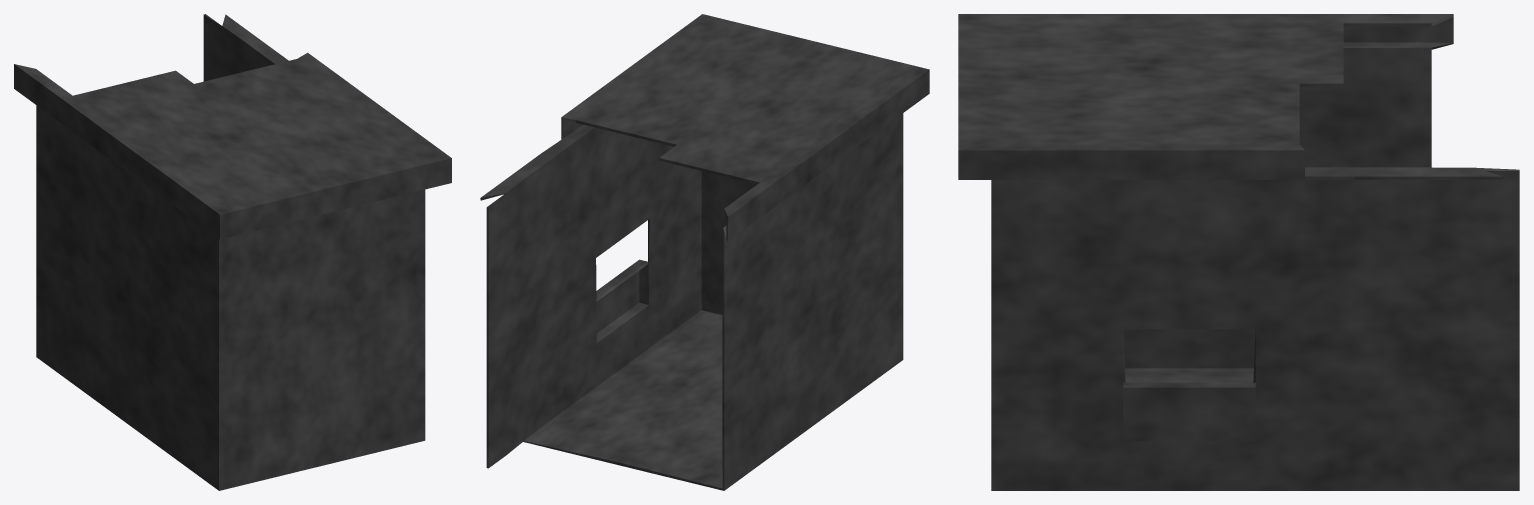
Rendered from blownOutBuilding.fbx.
The picture shows the model from 3 angles, left to right: view 1: azimuth 30°, elevation 25°; view 2: azimuth 150°, elevation 25°; view 3: azimuth 270°, elevation 25°; orthographic projection. The views are drawn at different scales.
Parts seen in each view (by area): view 1: blownBuilding; view 2: blownBuilding; view 3: blownBuilding.
Boxes of the visible parts, x1,y1,x2,y2 form: blownBuilding: (14, 14, 451, 490); blownBuilding: (480, 14, 929, 490); blownBuilding: (958, 14, 1519, 490).
Size of the model in its own units: 783 by 933 by 1363.
1 material, 1 textured.
